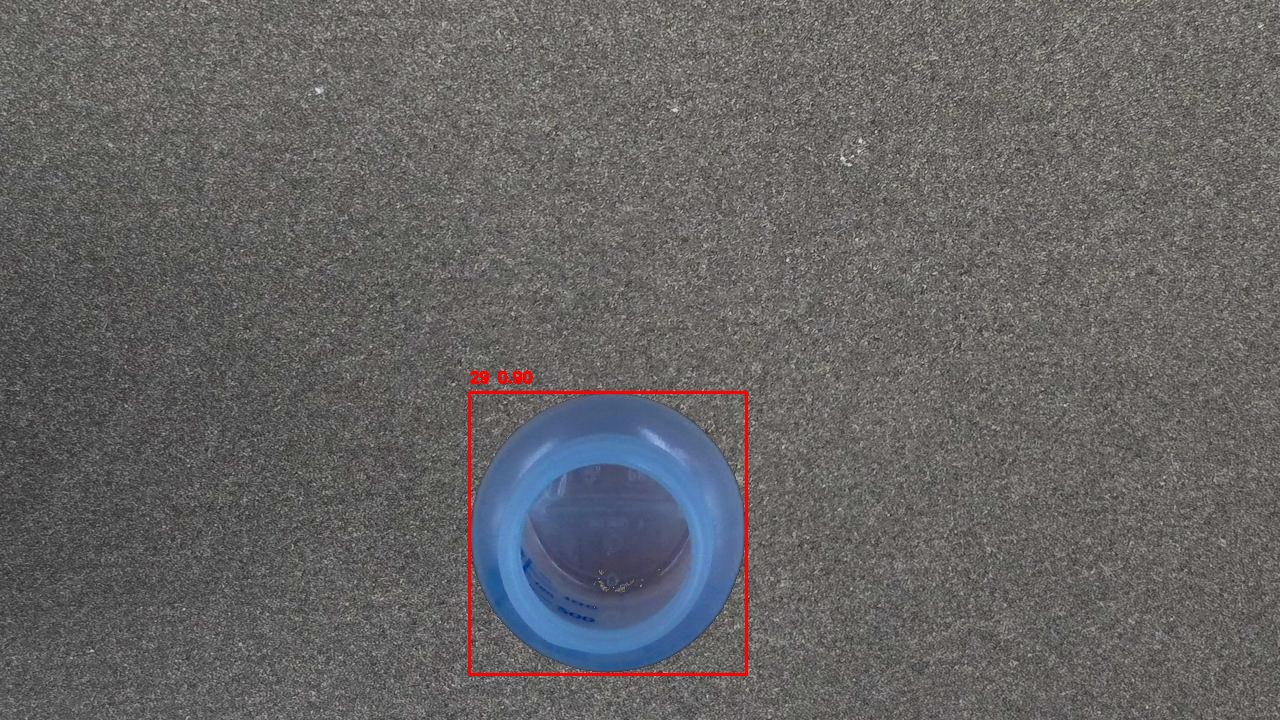cup: (469, 392, 746, 674)
